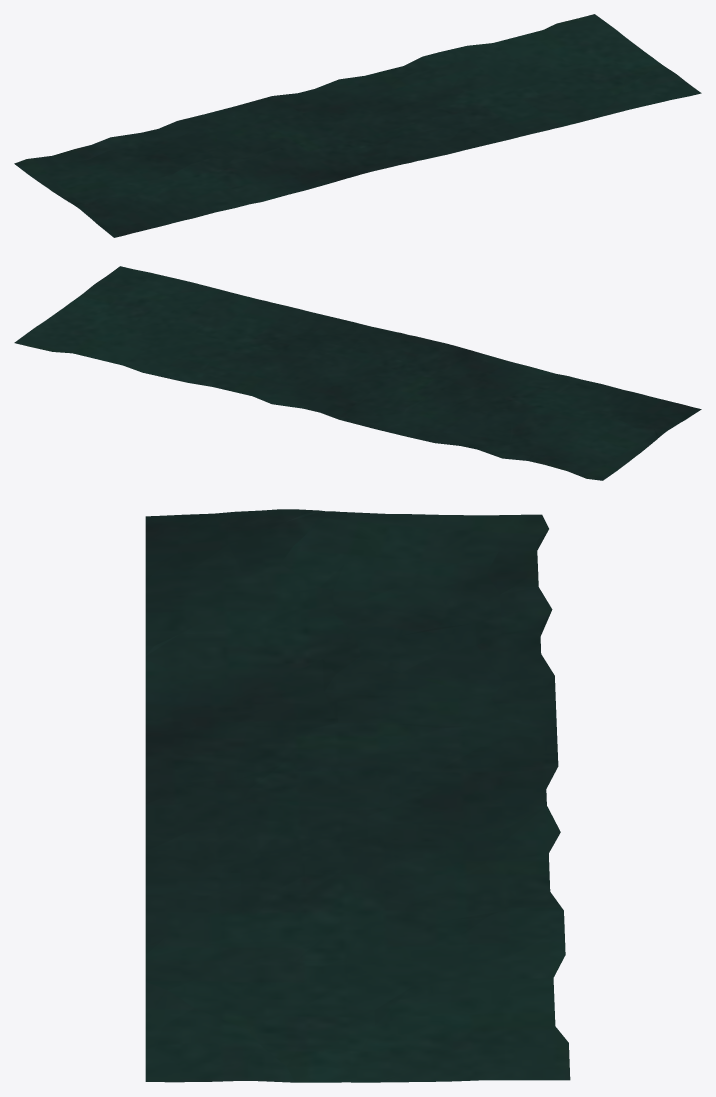
The picture shows the model from 3 angles, top to bottom: view 1: azimuth 30°, elevation 25°; view 2: azimuth 150°, elevation 25°; view 3: azimuth 270°, elevation 25°; orthographic projection. The views are drawn at different scales.
Bounding box in the file's own units: 104 × 0.6883 × 33.01.
Materials: 1 (1 with a texture image).
